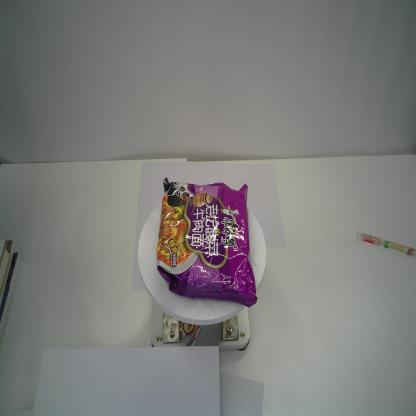Instant Noodles: (156, 176, 259, 308)
